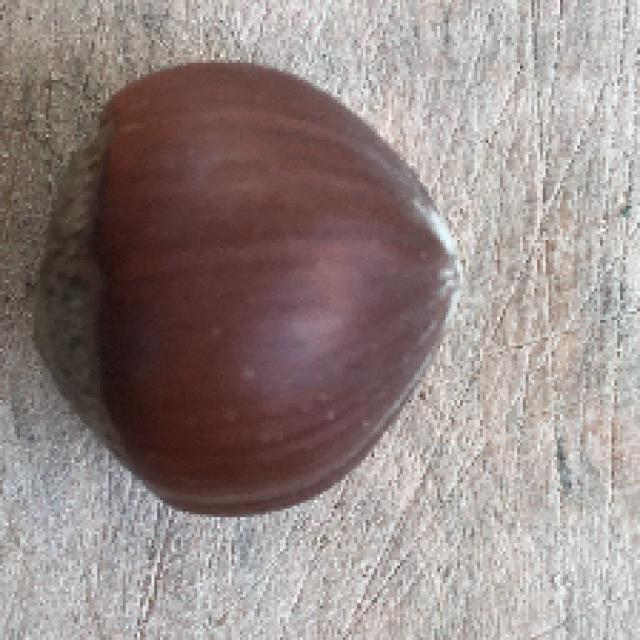DamagedHazelnut: (34, 64, 473, 520)
